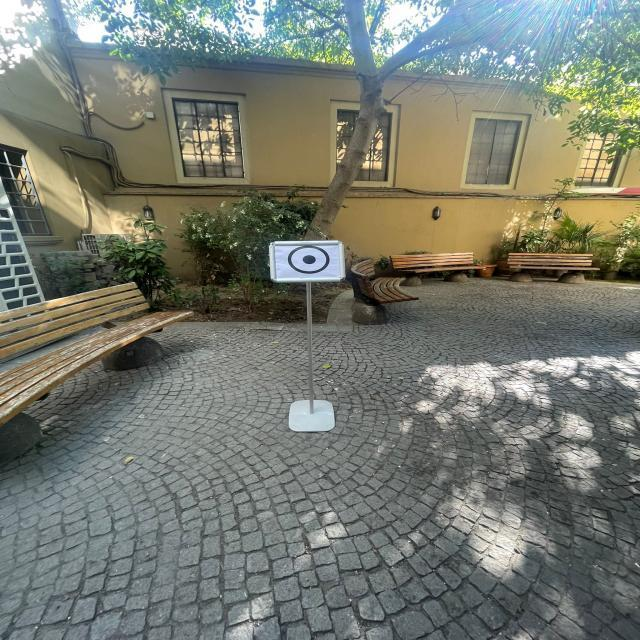Target: (258, 227, 358, 296)
inner: (299, 250, 320, 268)
